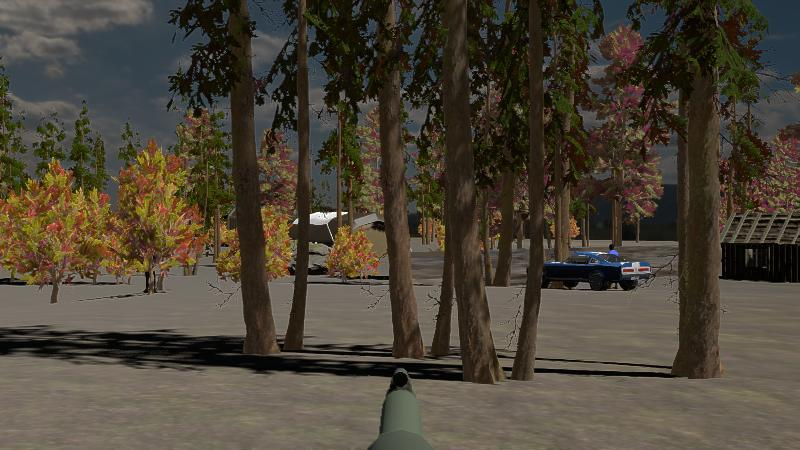House: (718, 206, 800, 282)
Human: (605, 241, 621, 259)
car: (540, 250, 653, 293)
